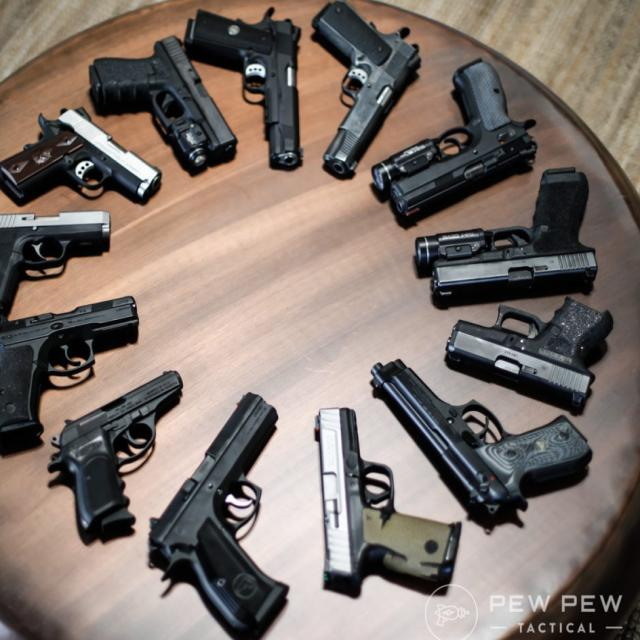Weapon: (148, 393, 288, 638), (372, 359, 591, 513), (315, 408, 460, 595), (372, 59, 536, 217), (416, 168, 597, 300), (48, 372, 182, 537), (0, 296, 138, 450), (89, 36, 236, 170), (312, 0, 420, 177), (184, 8, 302, 168), (447, 296, 612, 408), (0, 108, 161, 202), (0, 210, 110, 318)
